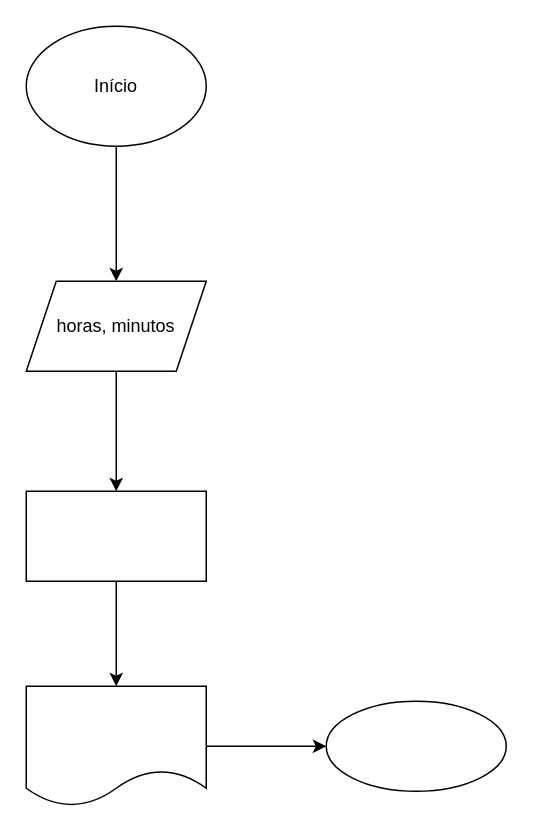
Image size: 533x833. Some labels were removed from this diagram. The shapes that lost their labels are listed below. From the top down, each one's centre as x and y in pixels, then its label:
At pixel 115 535: "(minutos/60)+horas".
At pixel 415 745: "Fim".
